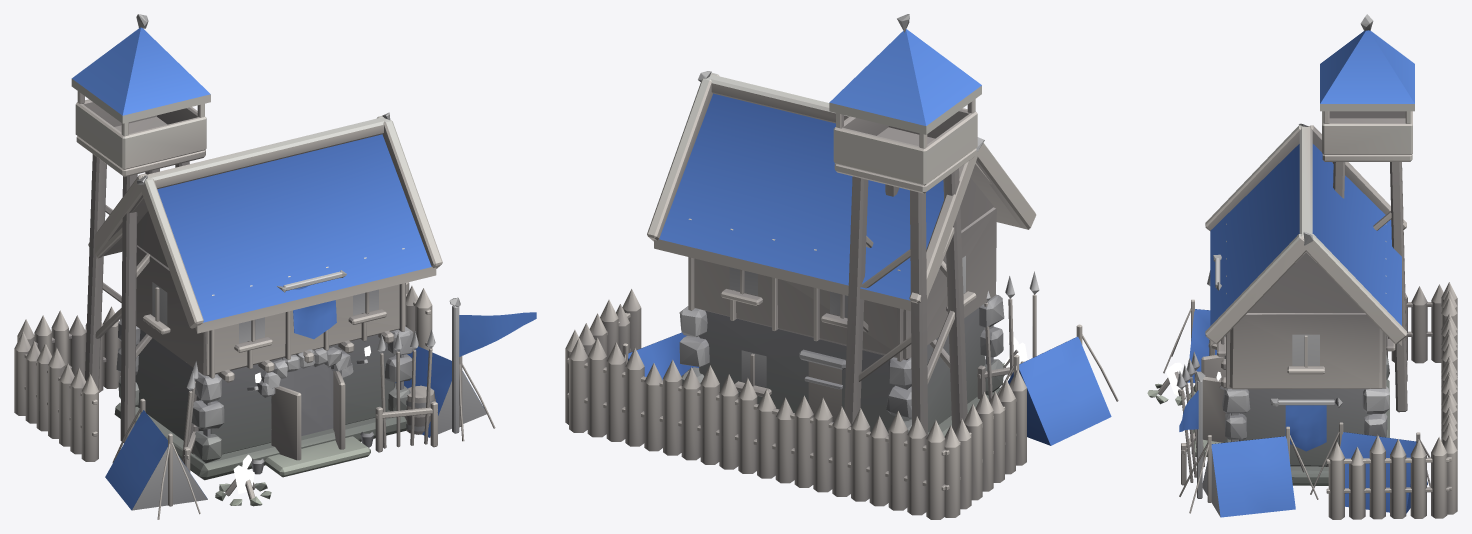
Rendered from barracks_2_8.glb.
The picture shows the model from 3 angles, left to right: view 1: azimuth 30°, elevation 25°; view 2: azimuth 150°, elevation 25°; view 3: azimuth 270°, elevation 25°; orthographic projection. The views are drawn at different scales.
Visible parts, largest first — view 1: Tower; view 2: Tower; view 3: Tower.
Boxes of the visible parts, x1,y1,x2,y2 form: Tower: (14,14,536,519); Tower: (565,14,1118,519); Tower: (1147,14,1457,519).
Size of the model in its own units: 5.17 by 5.16 by 3.79.
